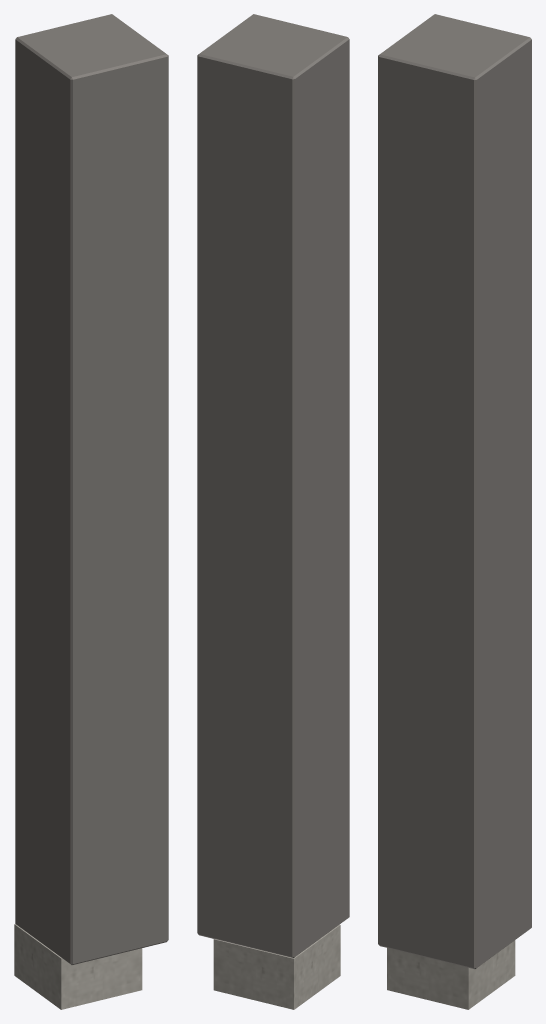
Rendered from corner.glb.
3 renders of one model, left to right at view 1: azimuth 30°, elevation 25°; view 2: azimuth 150°, elevation 25°; view 3: azimuth 330°, elevation 25°, orthographic.
Visible parts, largest first — view 1: corner_metal, corner_concrete; view 2: corner_metal, corner_concrete; view 3: corner_metal, corner_concrete.
Part boxes in pixels (left/top/right/bottom): corner_metal: left=15, top=14, right=168, bottom=964; corner_concrete: left=14, top=924, right=142, bottom=1009; corner_metal: left=197, top=14, right=349, bottom=957; corner_concrete: left=213, top=924, right=340, bottom=1009; corner_metal: left=378, top=14, right=531, bottom=969; corner_concrete: left=387, top=940, right=515, bottom=1009.
Bounding box in the file's own units: 0.34 × 3.1 × 0.34.
Materials: 2 (1 with a texture image).
